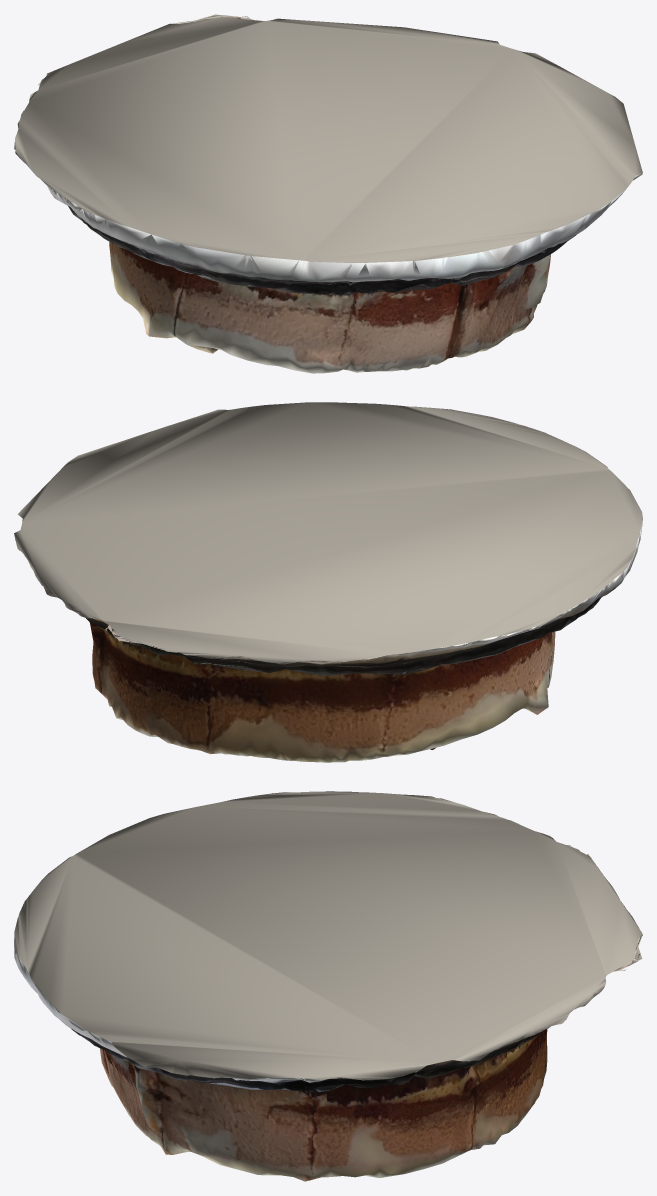
The model's file is cake_6696.obj.
3 renders of one model, top to bottom at view 1: azimuth 30°, elevation 25°; view 2: azimuth 150°, elevation 25°; view 3: azimuth 270°, elevation 25°, orthographic. The views are drawn at different scales.
Bounding box in the file's own units: 0.1761 × 0.0566 × 0.1767.
1 material, 1 textured.
